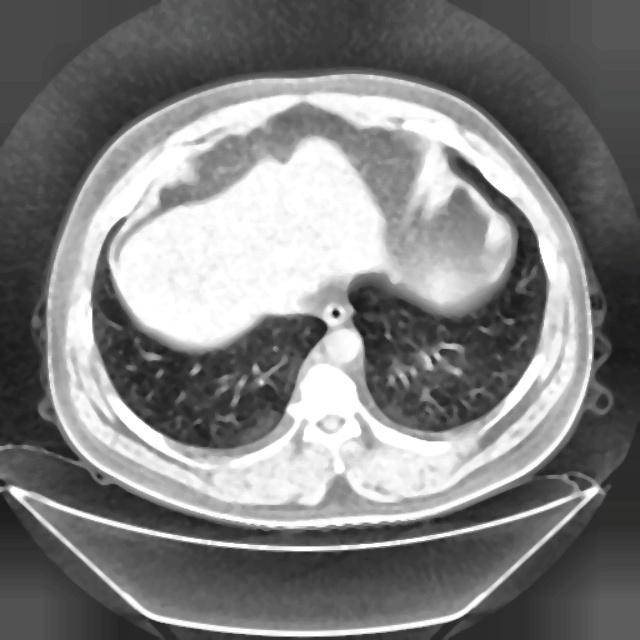covid: (40, 72, 595, 527)
